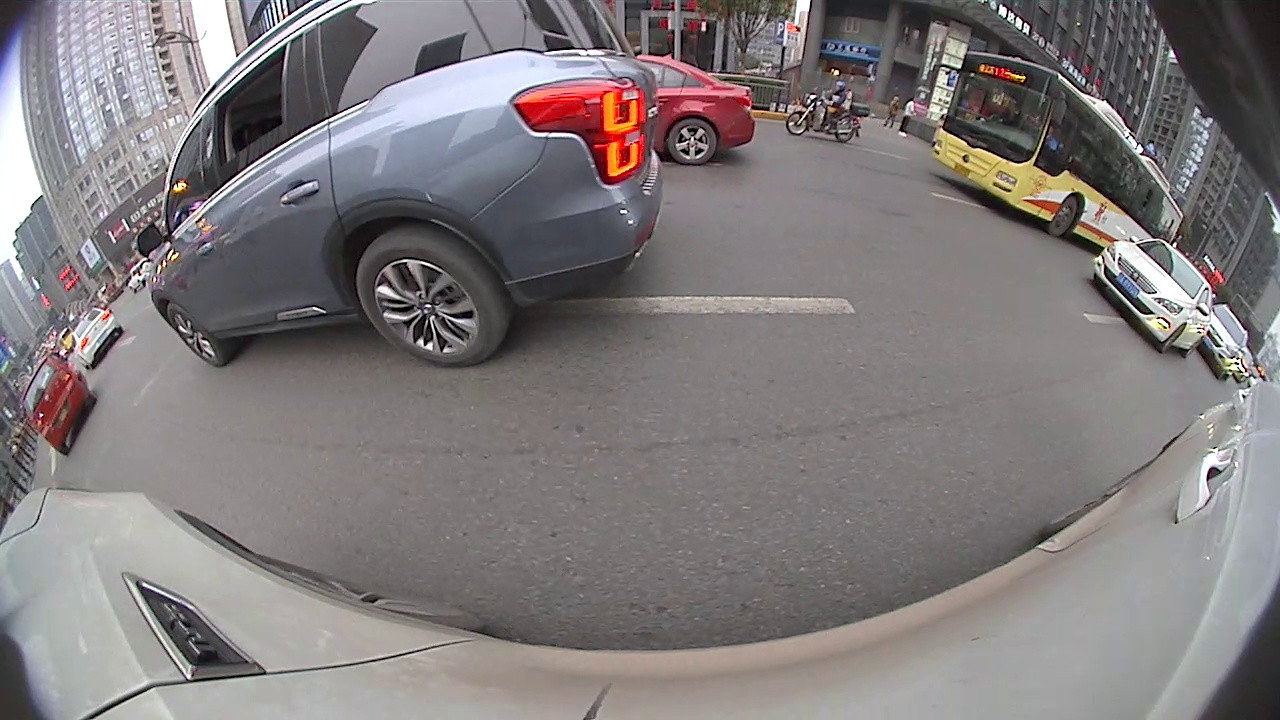bus: (930, 48, 1187, 253)
car: (133, 1, 666, 368), (612, 48, 755, 170), (1088, 233, 1215, 359), (1192, 299, 1250, 382), (67, 306, 126, 370)
front: (164, 297, 226, 370), (1049, 193, 1080, 237), (785, 108, 812, 137)
rear: (354, 226, 513, 369), (669, 117, 716, 166), (833, 118, 858, 144)
rider: (17, 349, 98, 453), (783, 77, 873, 144)
